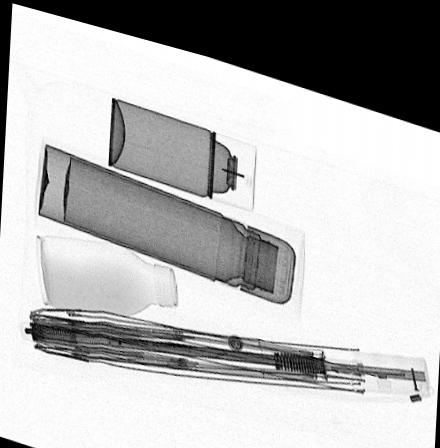Sprayer: (105, 88, 257, 198)
